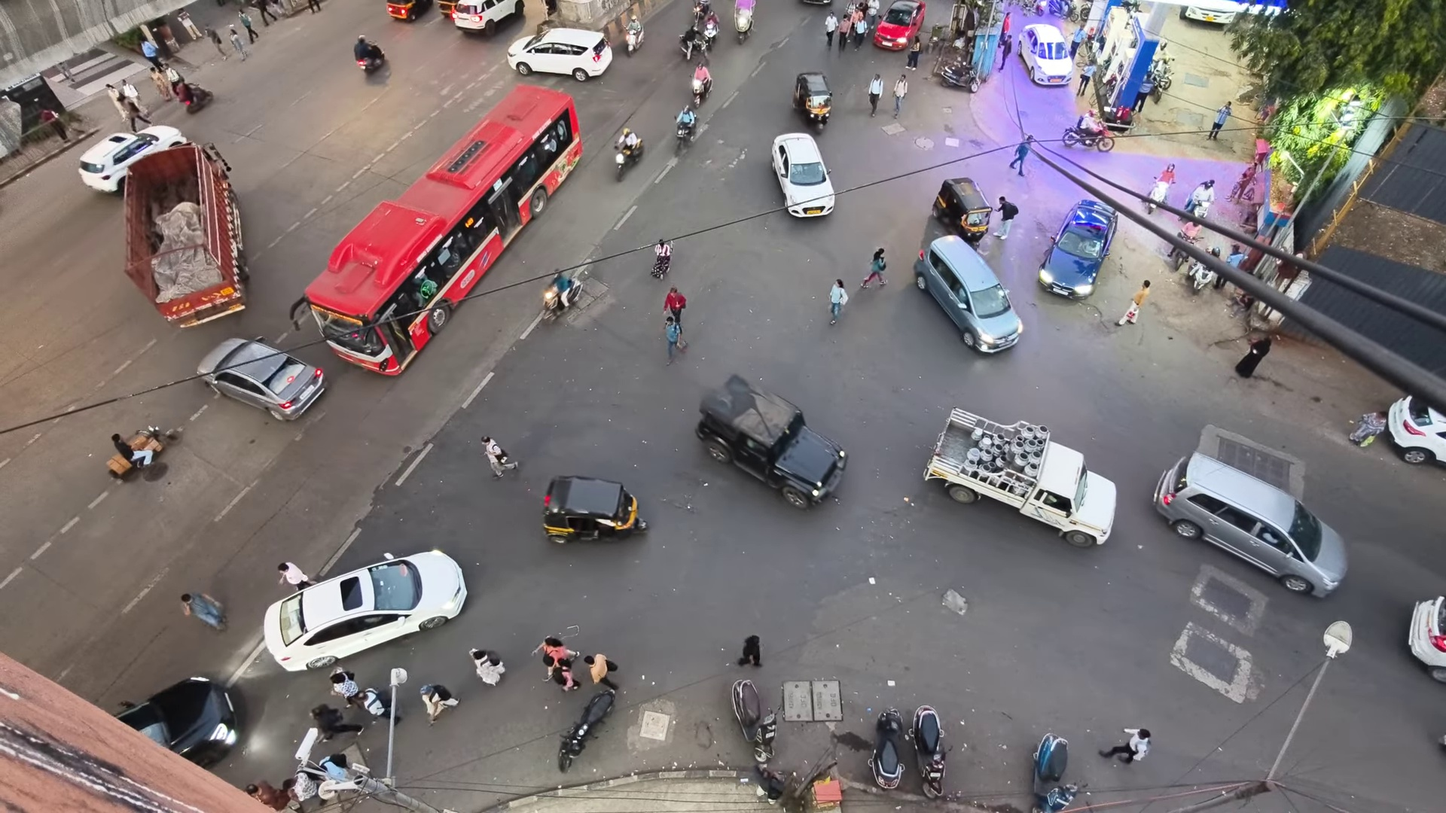driving: (292, 85, 581, 374), (1154, 452, 1347, 596), (924, 409, 1116, 547), (263, 551, 466, 671), (124, 144, 247, 326), (695, 375, 846, 508), (914, 235, 1022, 353), (115, 677, 237, 766), (197, 338, 325, 420), (1038, 199, 1118, 298), (78, 125, 187, 192), (543, 477, 647, 542), (508, 27, 612, 81), (771, 133, 835, 217), (558, 690, 615, 772), (107, 426, 182, 480), (932, 178, 993, 244), (1387, 396, 1445, 464), (731, 679, 776, 764), (1033, 732, 1078, 812), (909, 705, 946, 798), (1408, 597, 1446, 684), (1018, 24, 1073, 84), (869, 708, 903, 789), (450, 0, 524, 36), (872, 0, 925, 50), (542, 267, 588, 318), (792, 72, 831, 129), (1179, 0, 1249, 25), (939, 59, 987, 92), (615, 129, 644, 180), (1061, 126, 1115, 151), (386, 0, 433, 21), (1188, 260, 1216, 294), (734, 0, 755, 44), (675, 114, 697, 154), (624, 17, 645, 57)
walking: (311, 704, 363, 740), (534, 638, 578, 678), (1099, 729, 1149, 763), (181, 593, 225, 630), (420, 684, 458, 724), (1235, 336, 1272, 377), (480, 436, 517, 477), (1117, 280, 1150, 325), (1348, 411, 1387, 446), (245, 781, 290, 810), (469, 649, 505, 685), (584, 653, 618, 690), (330, 667, 362, 705), (994, 196, 1018, 239), (861, 248, 886, 288), (664, 286, 686, 331), (122, 98, 151, 132), (120, 79, 148, 114), (278, 562, 313, 590), (1008, 135, 1032, 175), (552, 658, 580, 691), (39, 109, 67, 142), (1207, 101, 1231, 139), (361, 688, 392, 717), (105, 85, 128, 122), (1131, 75, 1154, 112), (652, 239, 672, 279), (829, 279, 847, 323), (665, 315, 681, 364), (149, 67, 172, 100), (237, 8, 258, 42), (737, 635, 760, 666), (252, 0, 278, 26), (207, 27, 227, 60), (1076, 62, 1095, 96), (228, 26, 247, 60), (868, 73, 883, 116), (141, 37, 163, 66), (893, 75, 908, 117), (1069, 26, 1087, 59), (906, 35, 923, 69), (838, 15, 852, 53), (853, 15, 868, 50), (824, 10, 838, 46), (865, 0, 880, 26), (1000, 33, 1011, 66), (307, 0, 320, 13)
